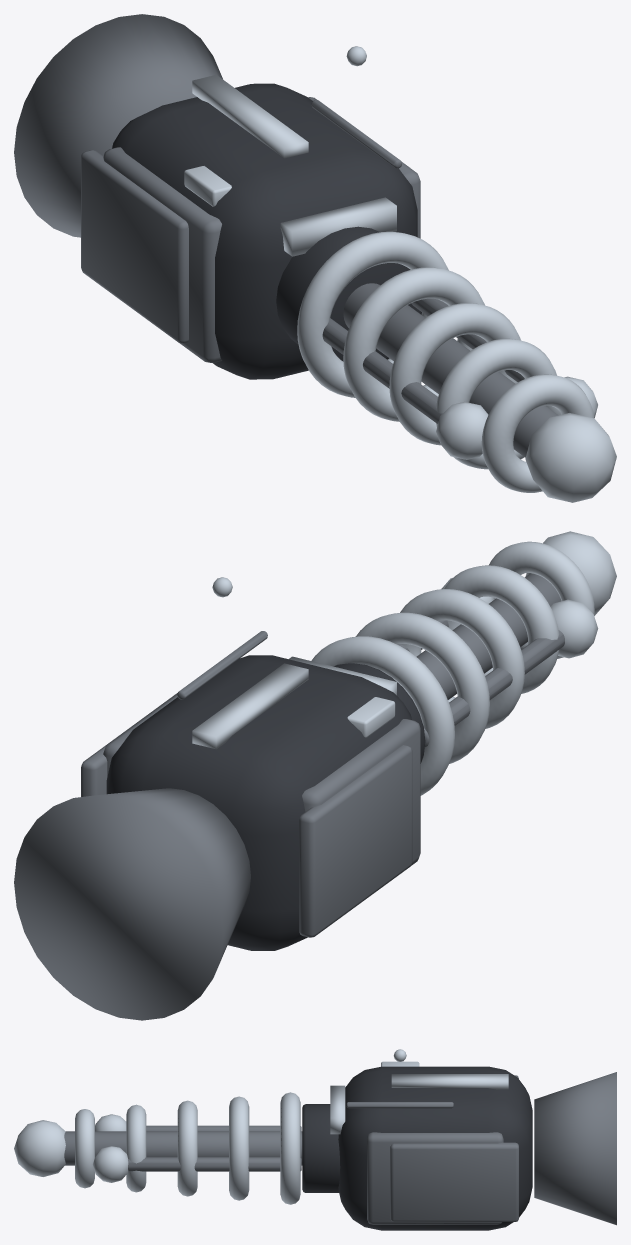
Rendered from weapon_drone_tesla_storm.glb.
3 renders of one model, top to bottom at view 1: azimuth 30°, elevation 25°; view 2: azimuth 150°, elevation 25°; view 3: azimuth 270°, elevation 25°, orthographic. The views are drawn at different scales.
Visible parts, largest first — view 1: weapon_drone_tesla_storm; view 2: weapon_drone_tesla_storm; view 3: weapon_drone_tesla_storm.
Boxes of the visible parts, bbox=[...] form: weapon_drone_tesla_storm: bbox=[14, 14, 616, 502]; weapon_drone_tesla_storm: bbox=[14, 531, 616, 1020]; weapon_drone_tesla_storm: bbox=[14, 1049, 616, 1230].
Bounding box in the file's own units: 0.5808 × 0.7068 × 2.04.
